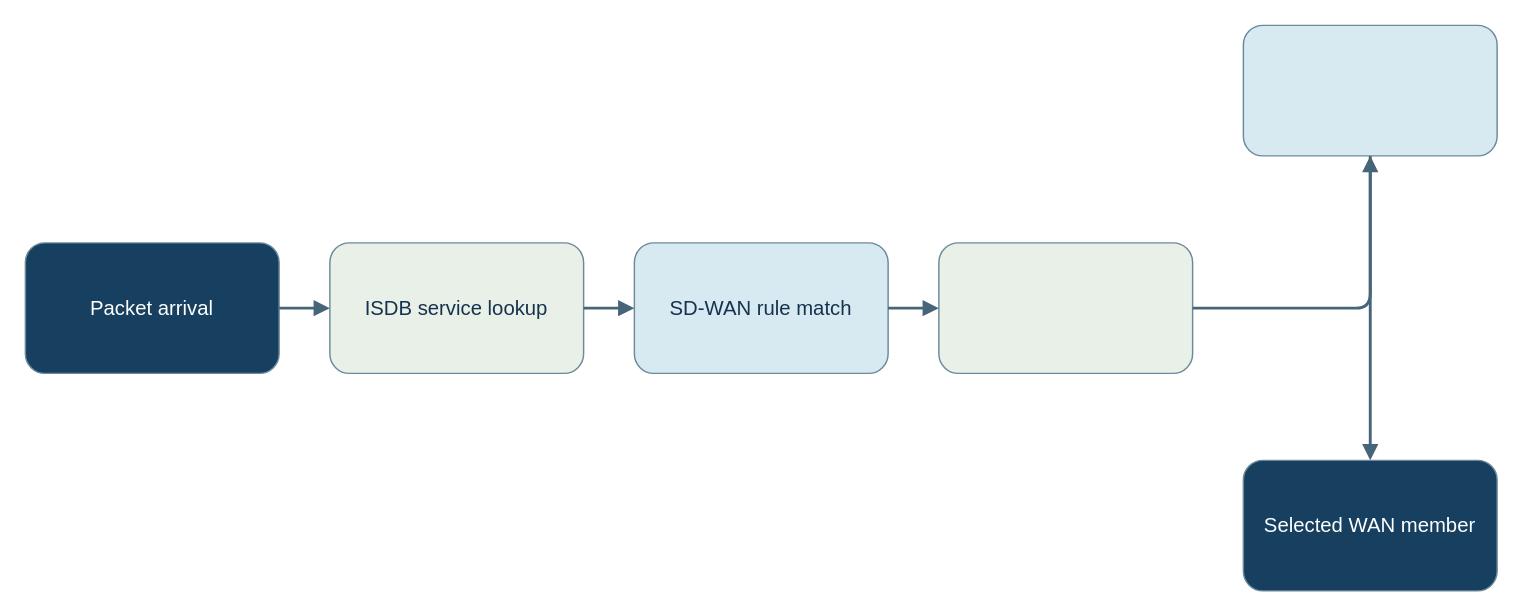
This 1523x616 diagram has some shape labels left out. Each missing label, with the box of its shape:
Rule strategy: (937, 241, 1193, 373)
SLA/member eligibility: (1242, 24, 1497, 156)
